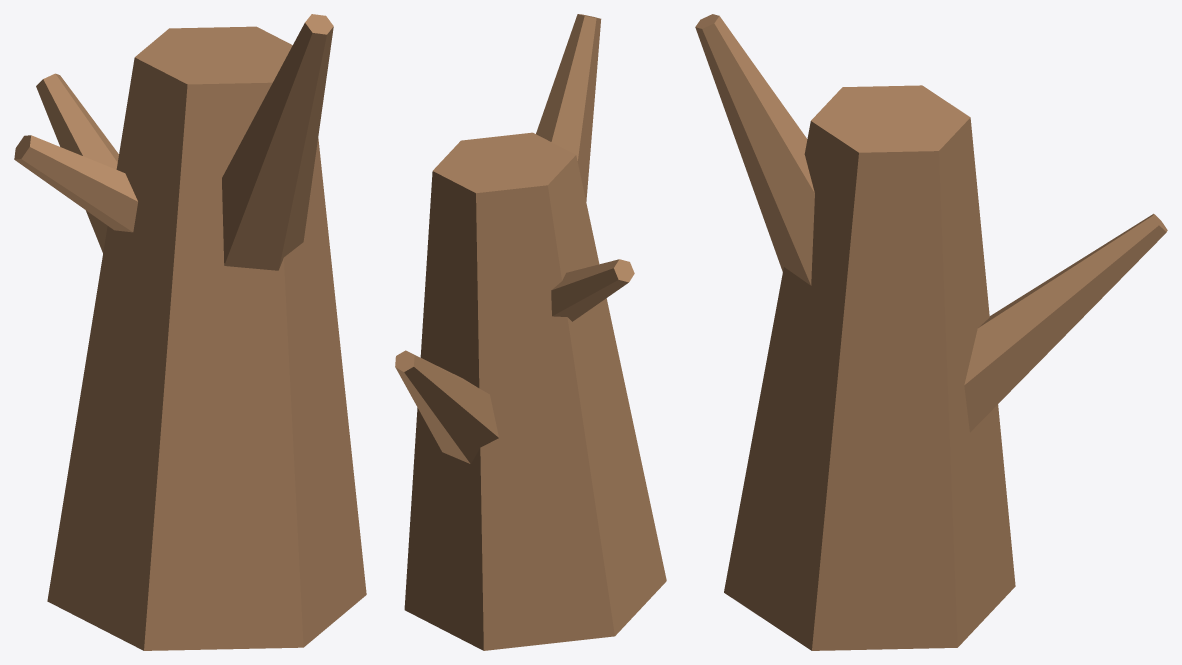
The model's file is DeadTreeStump.glb.
3 renders of one model, left to right at view 1: azimuth 30°, elevation 25°; view 2: azimuth 150°, elevation 25°; view 3: azimuth 270°, elevation 25°, orthographic. The views are drawn at different scales.
Parts seen in each view (by area): view 1: DeadTreeStump_Trunk, DeadTreeStump_BrokenTop, DeadTreeStump_SideStub, DeadTreeStump_BrokenTop.001; view 2: DeadTreeStump_Trunk, DeadTreeStump_BrokenTop.001, DeadTreeStump_BrokenTop, DeadTreeStump_SideStub; view 3: DeadTreeStump_Trunk, DeadTreeStump_BrokenTop, DeadTreeStump_BrokenTop.001.
Boxes of the visible parts, box(x1,y1,x2,y2) form: DeadTreeStump_Trunk: box(47, 26, 366, 650); DeadTreeStump_BrokenTop: box(222, 14, 333, 270); DeadTreeStump_SideStub: box(14, 135, 137, 232); DeadTreeStump_BrokenTop.001: box(36, 73, 118, 253); DeadTreeStump_Trunk: box(404, 132, 666, 650); DeadTreeStump_BrokenTop.001: box(395, 350, 498, 463); DeadTreeStump_BrokenTop: box(536, 14, 601, 201); DeadTreeStump_SideStub: box(551, 259, 634, 321); DeadTreeStump_Trunk: box(724, 85, 1015, 650); DeadTreeStump_BrokenTop: box(695, 14, 814, 285); DeadTreeStump_BrokenTop.001: box(964, 213, 1167, 432).
Bounding box in the file's own units: 0.4237 × 0.9337 × 0.6749.
